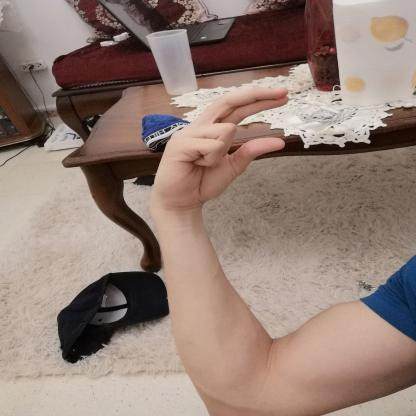DHELL: (140, 76, 302, 218)
